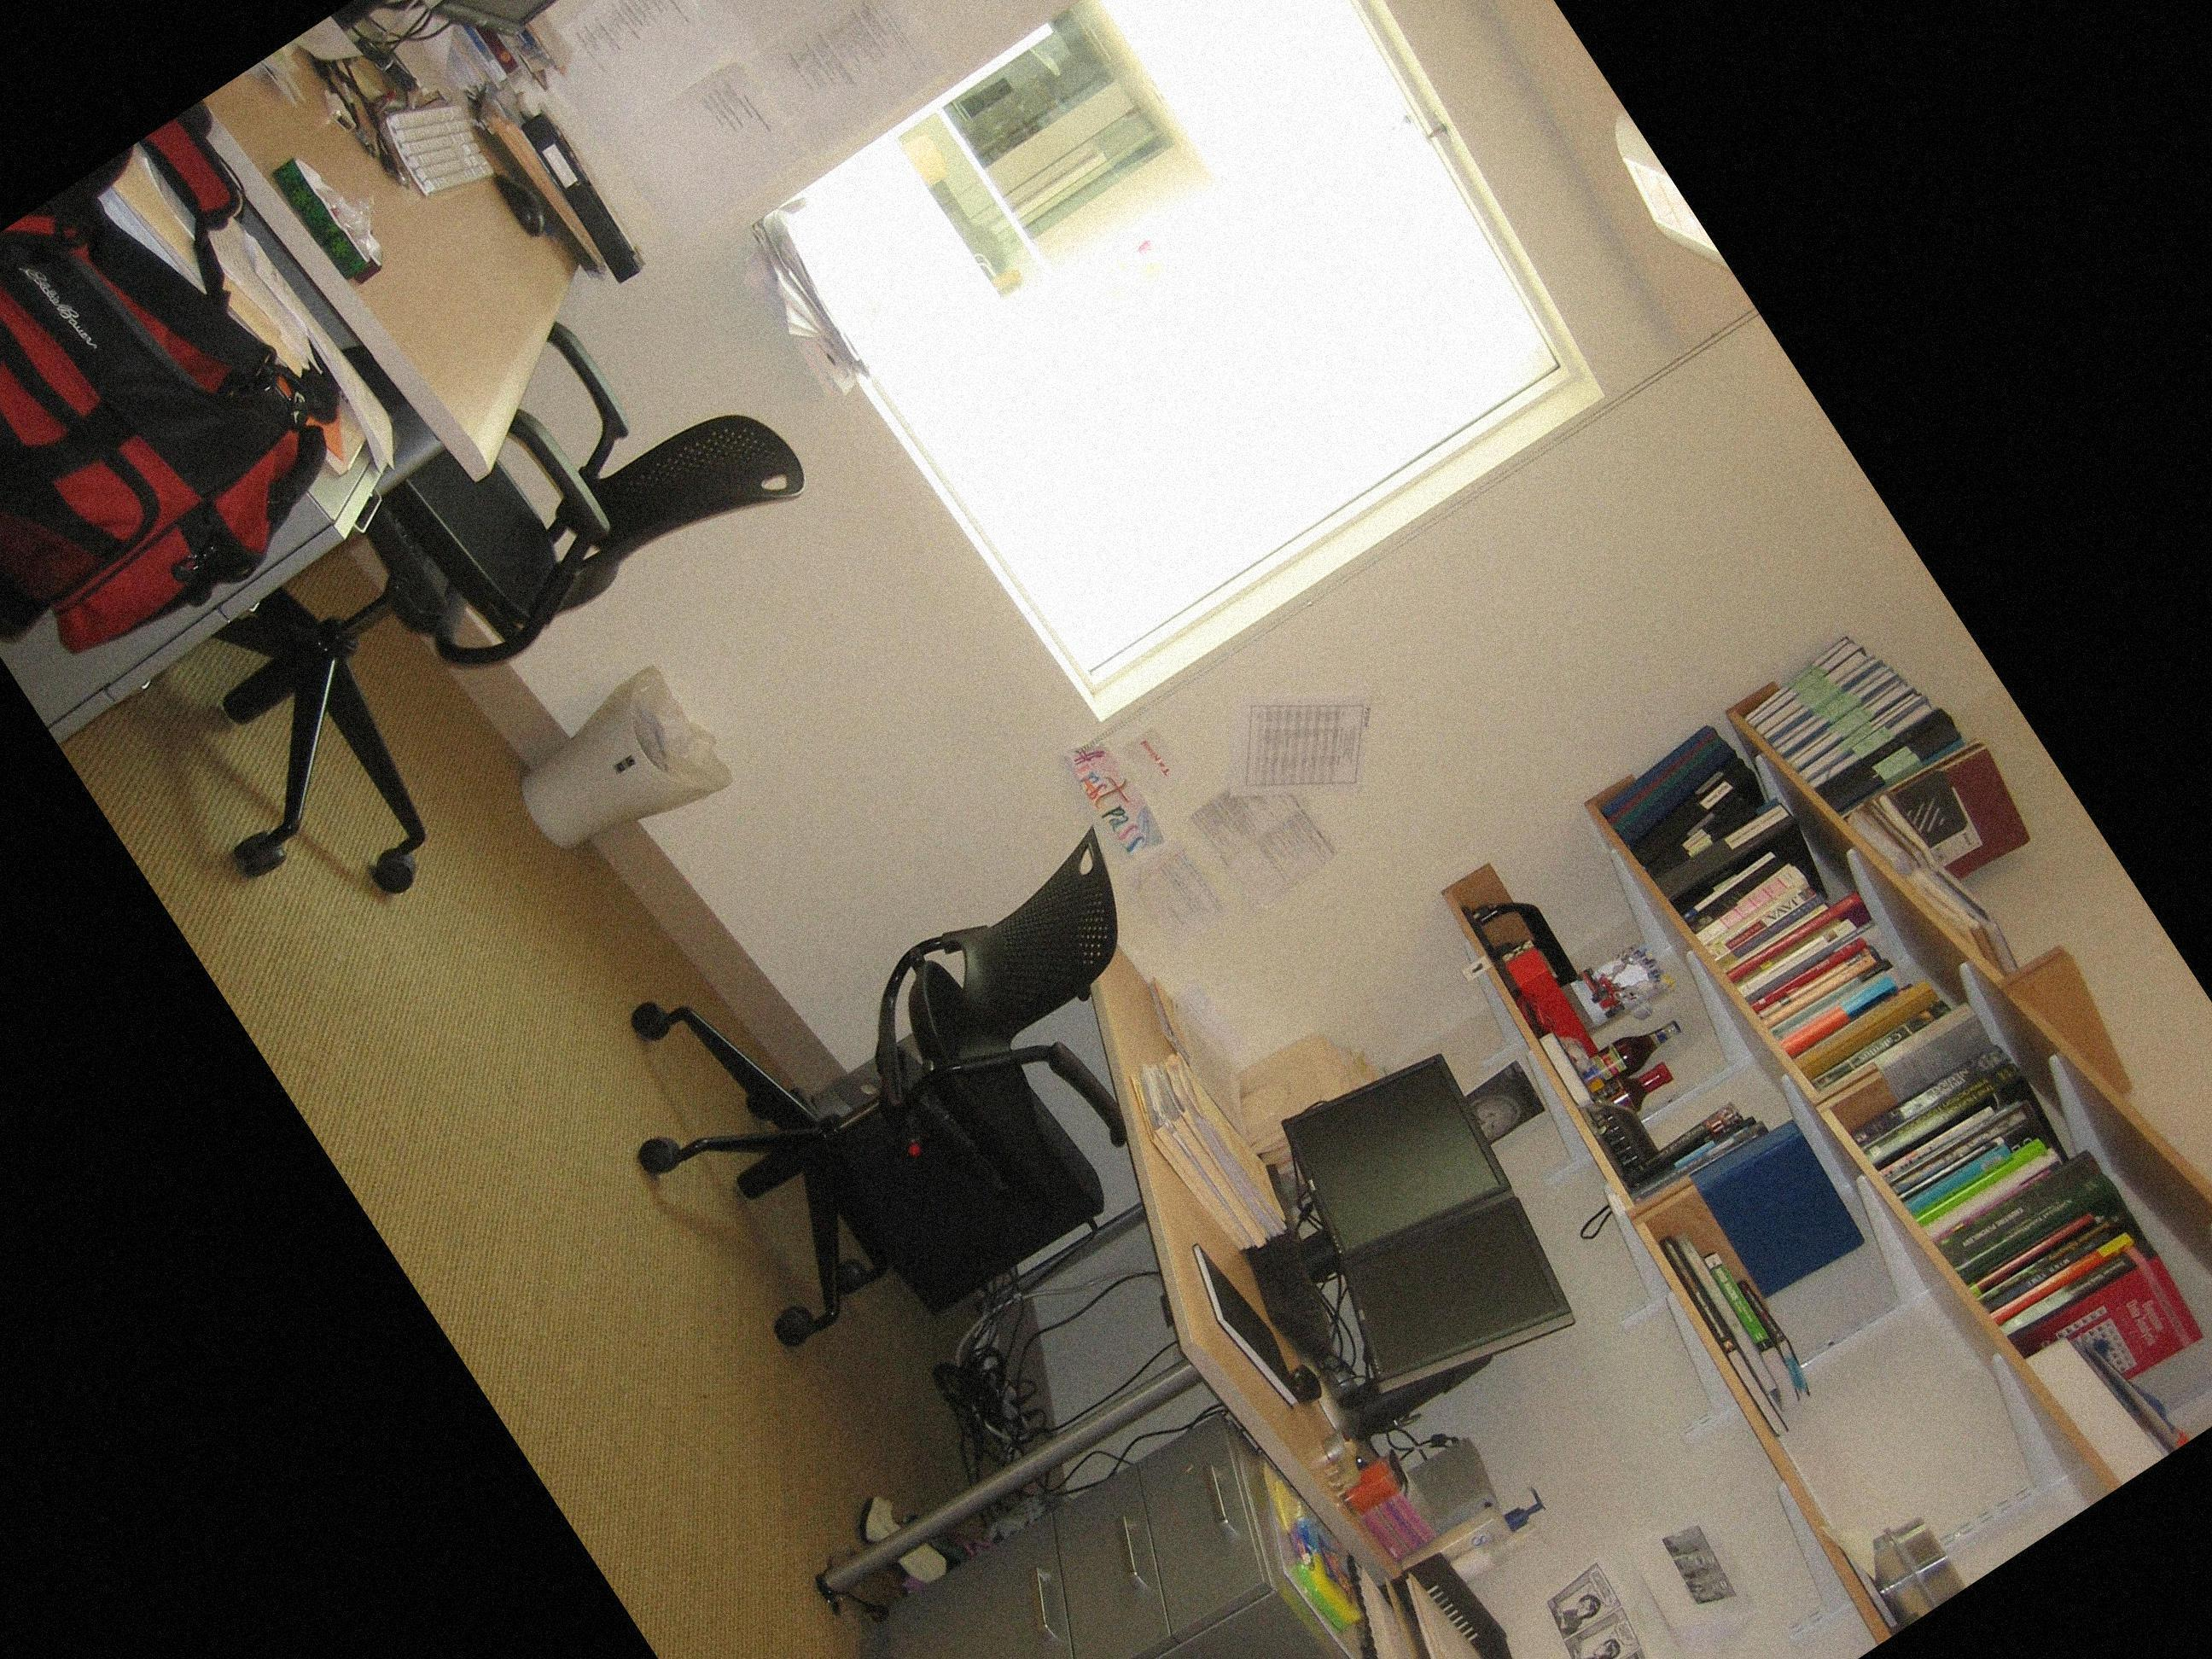Bote de Basura: (504, 644, 759, 873)
Otro Obstaculo: (0, 153, 383, 677)
